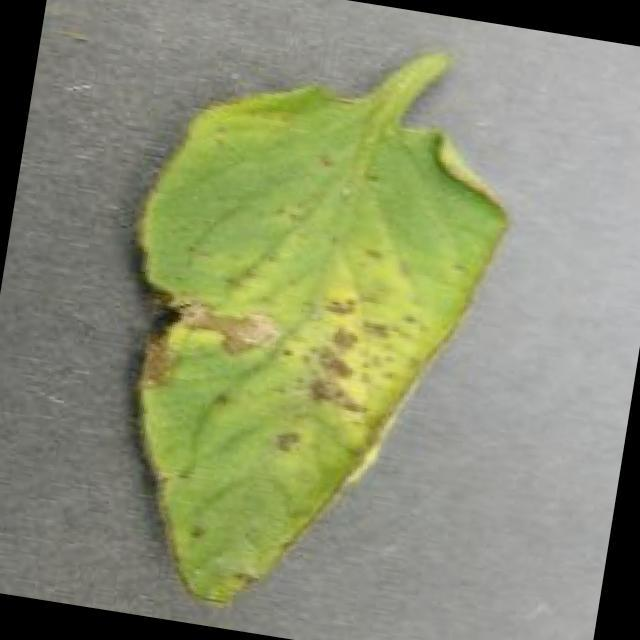Tomato bacterial spot leaf: (63, 0, 552, 640)
